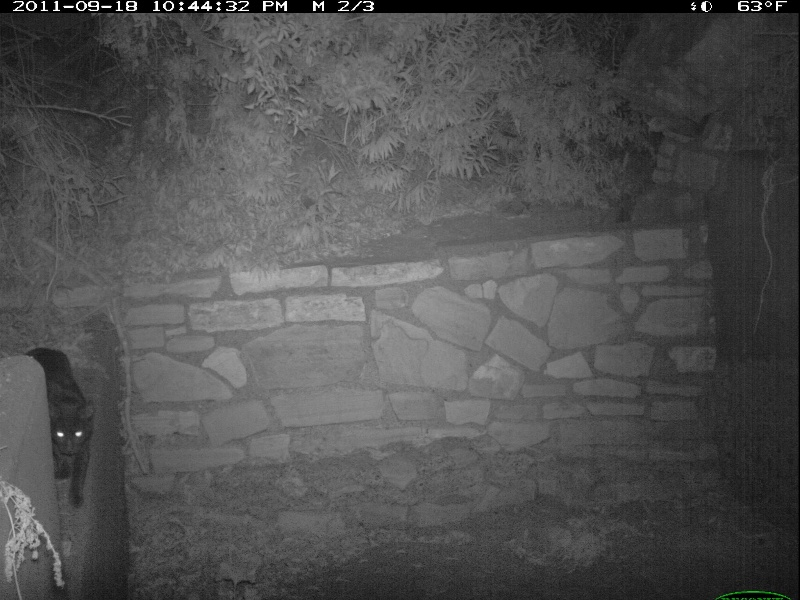cat: (19, 335, 97, 512)
